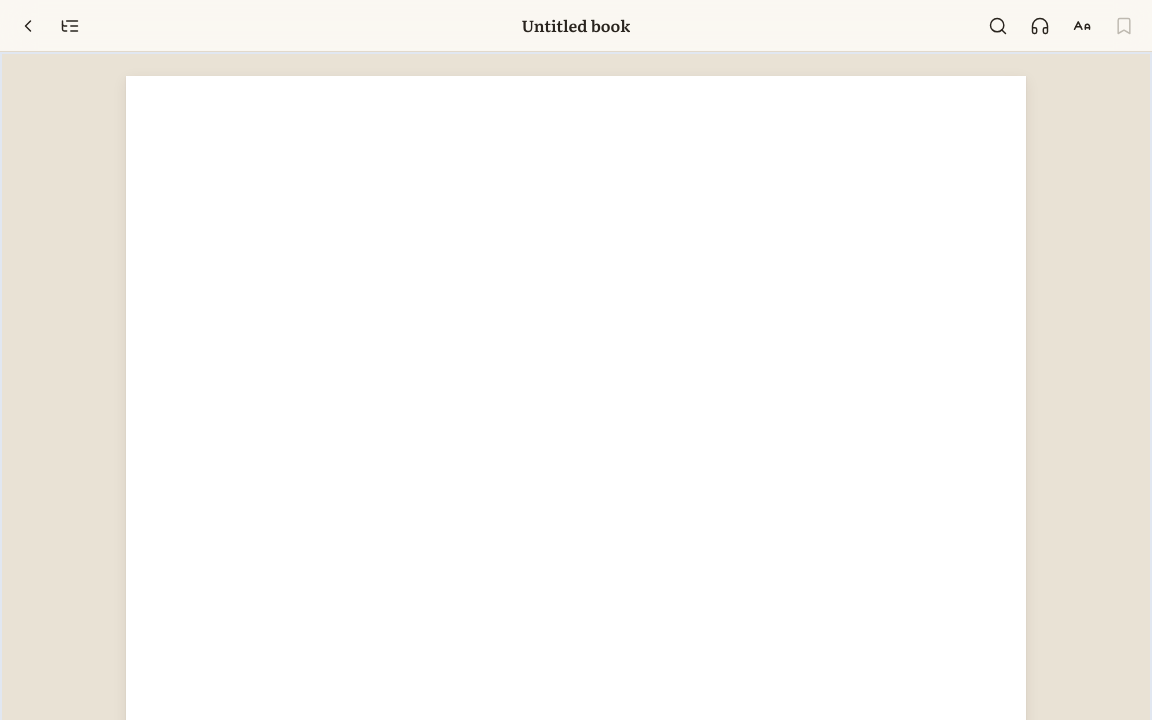
Test: ReaderView contents › shows a visible loading reason and disables note creation until notes arrive
Click the button named "Contents".
click(70, 26)  # box [50, 6, 90, 46]
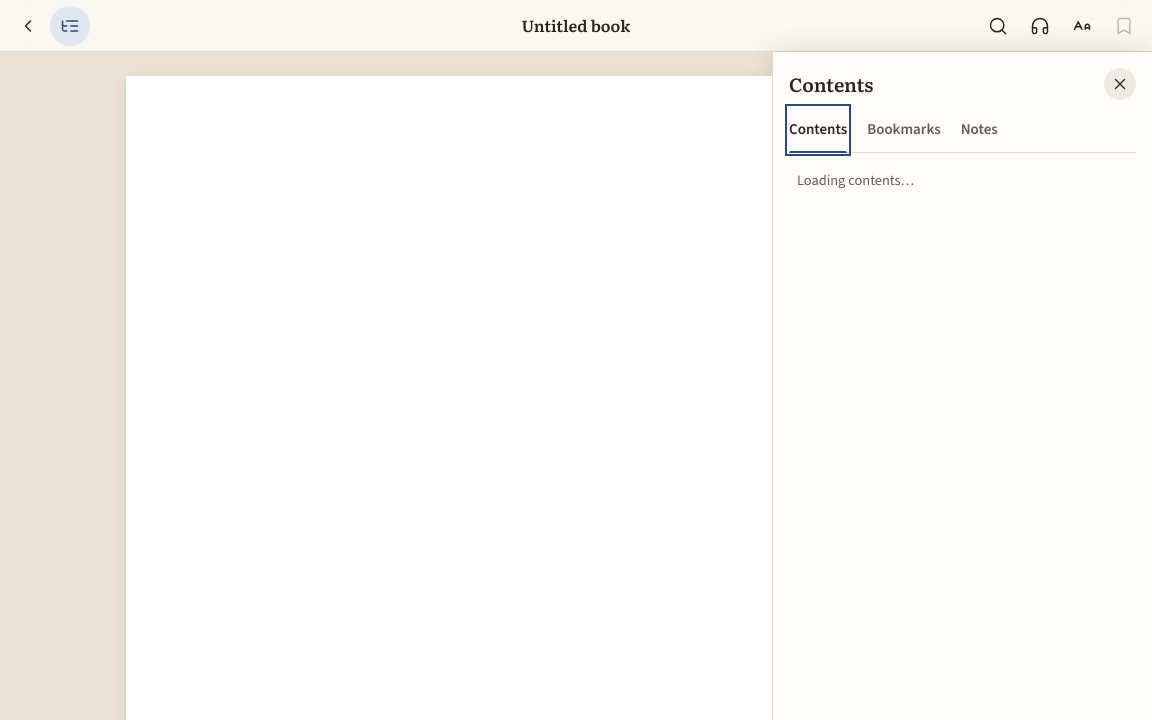
Click the tab "Notes".
click(979, 130)  # box [961, 108, 998, 152]
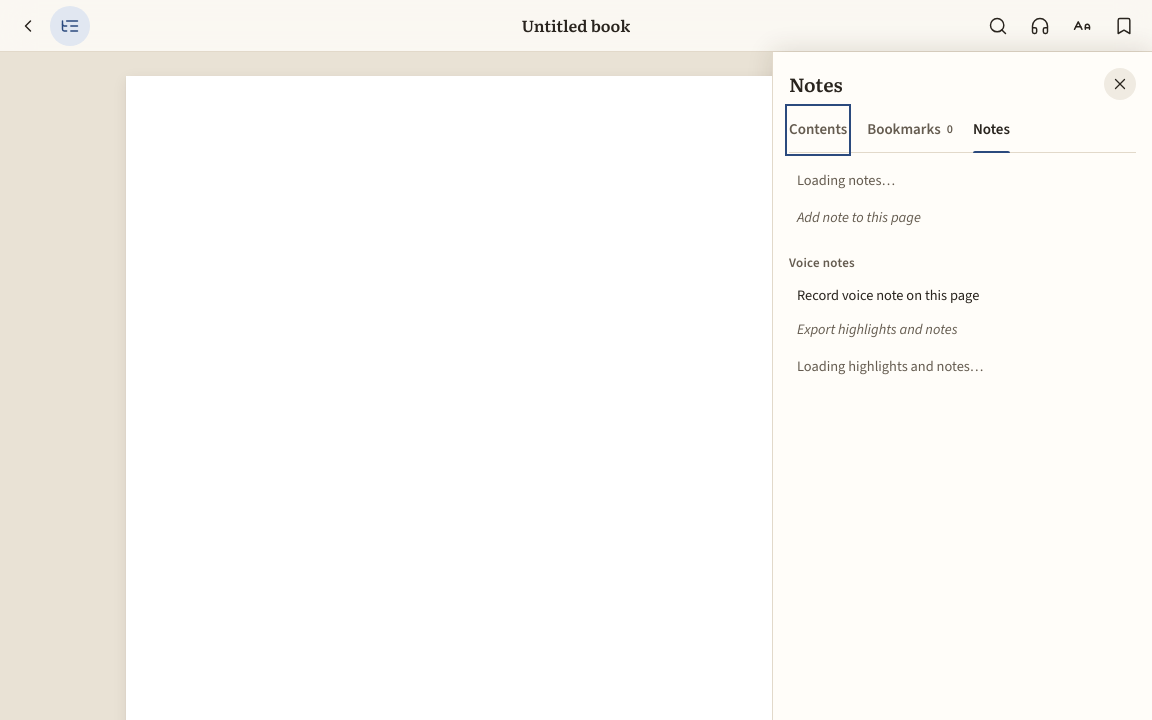
Expected: the text "Loading notes…" is shown, [797, 170, 895, 191]
Expected: the button "Add note to this page" is disabled, [789, 201, 1136, 235]
